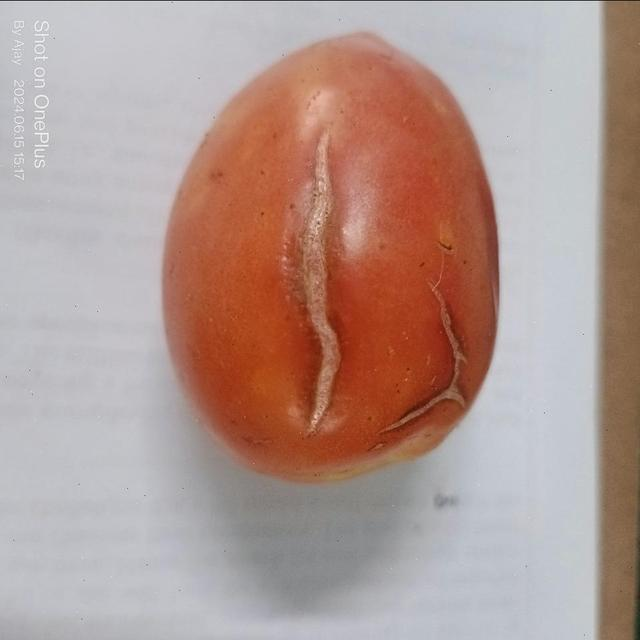Cracking Fruit: (23, 82, 302, 226)
